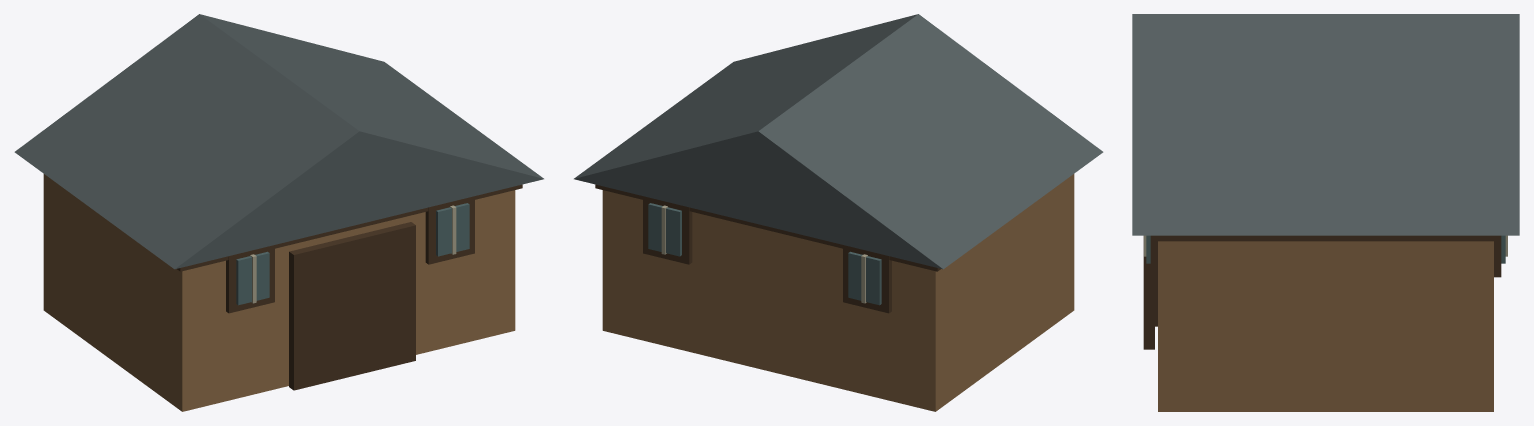
3 views of the same model, side by side, from view 1: azimuth 30°, elevation 25°; view 2: azimuth 150°, elevation 25°; view 3: azimuth 270°, elevation 25° (orthographic). The views are drawn at different scales.
Visible parts, largest first — view 1: alpine-body; view 2: alpine-body; view 3: alpine-body.
Boxes of the visible parts, x1,y1,x2,y2 form: alpine-body: (14,14,543,411); alpine-body: (574,14,1103,411); alpine-body: (1132,14,1519,411).
Size of the model in its own units: 10 by 6.4 by 7.5.
